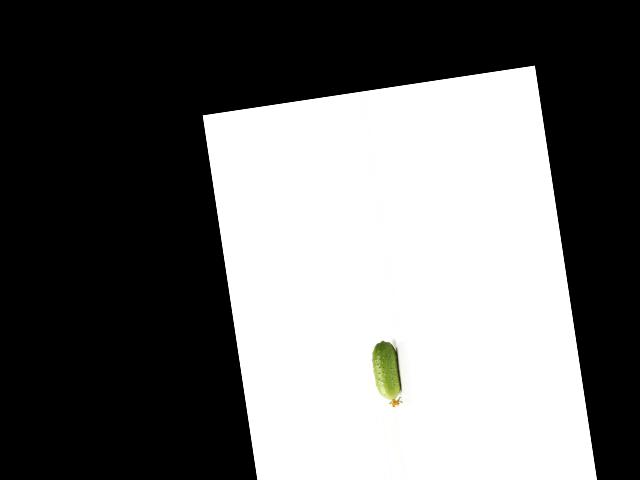cucumber: (369, 338, 405, 408)
